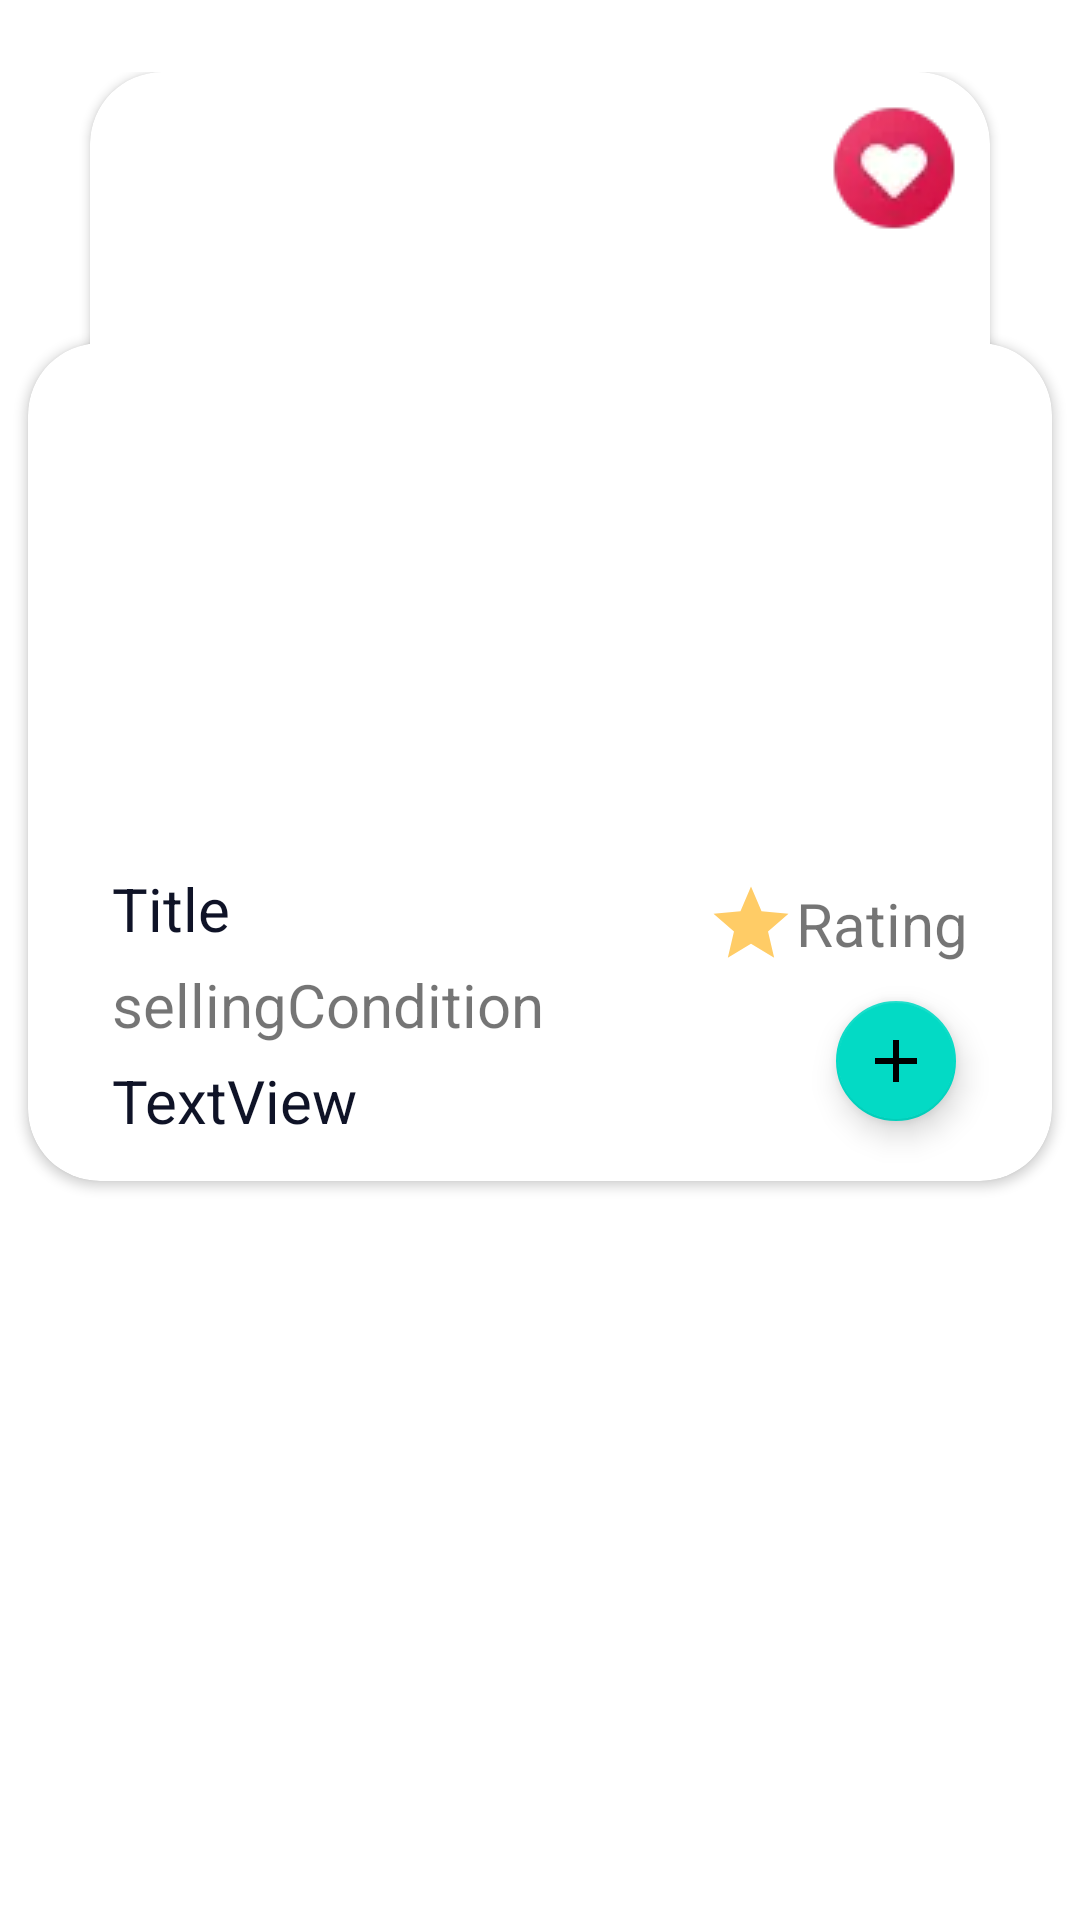

Named icons in this screenshot (1080x1920) and their centers, (x=x, y=y):
add: (x=897, y=1064)
love circled: (x=894, y=168)
star: (x=751, y=922)
